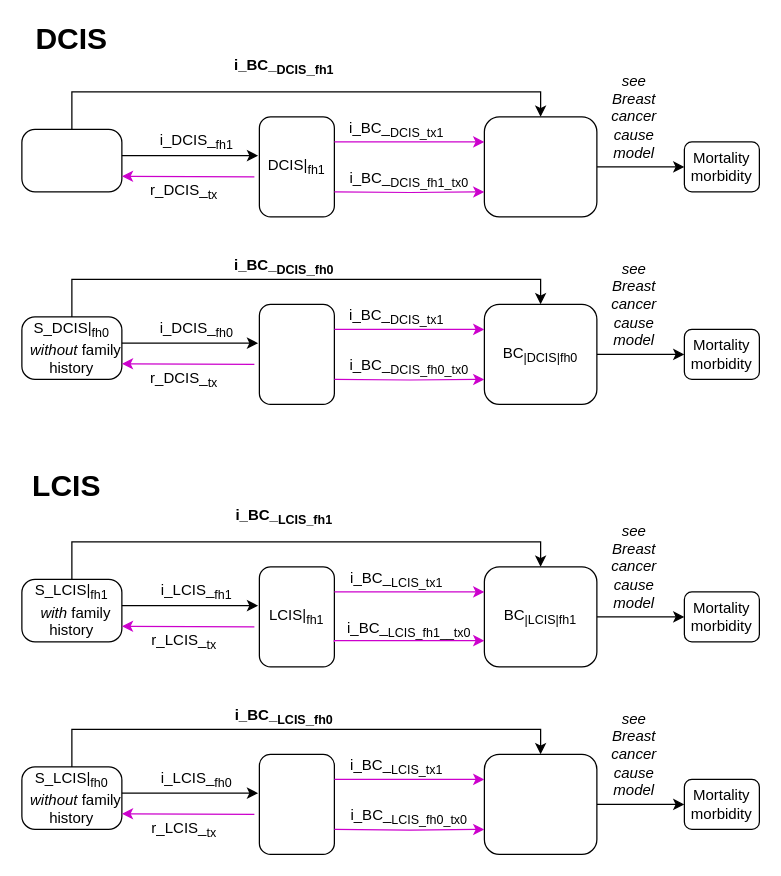
Some shapes in this 781 by 876 pixel diagram are drawn without their labels. The shapes that lost their labels are listed below. From the top down, each one's centre as x and y in pixels, then its label:
the point at 71,160: S_DCIS| fh1 with family history
the point at 540,166: BC |DCIS|fh1
the point at 296,353: DCIS| fh0
the point at 296,803: LCIS| fh0
the point at 540,803: BC |LCIS|fh0
